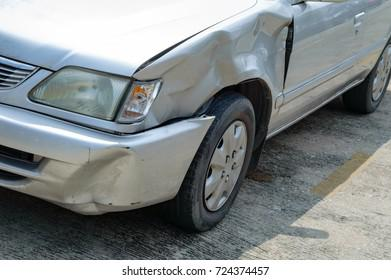fender-dent: (152, 24, 286, 120)
front-bumper-dent: (1, 124, 200, 217)
